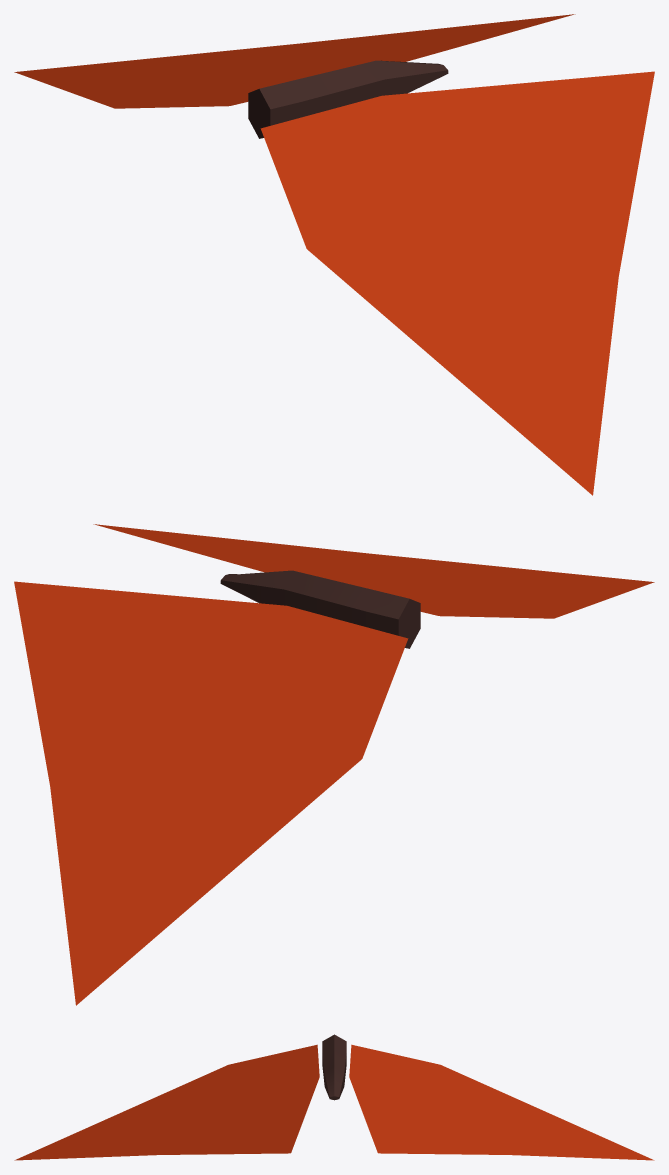
The model's file is butterfly.glb.
3 views of the same model, one above another, from view 1: azimuth 30°, elevation 25°; view 2: azimuth 150°, elevation 25°; view 3: azimuth 270°, elevation 25° (orthographic). The views are drawn at different scales.
Visible parts, largest first — view 1: Polygon_1, Polygon, Cylinder; view 2: Polygon, Polygon_1, Cylinder; view 3: Polygon, Polygon_1, Cylinder.
Boxes of the visible parts, <box> form: Polygon_1: <box>260,71,654,495</box>; Polygon: <box>14,14,575,108</box>; Cylinder: <box>248,60,448,138</box>; Polygon: <box>14,581,408,1005</box>; Polygon_1: <box>93,524,654,618</box>; Cylinder: <box>220,570,420,648</box>; Polygon: <box>349,1044,654,1160</box>; Polygon_1: <box>14,1044,319,1160</box>; Cylinder: <box>322,1034,346,1100</box>.
Bounding box in the file's own units: 0.8897 × 0.4327 × 2.2.
Materials: 1 (1 with a texture image).
